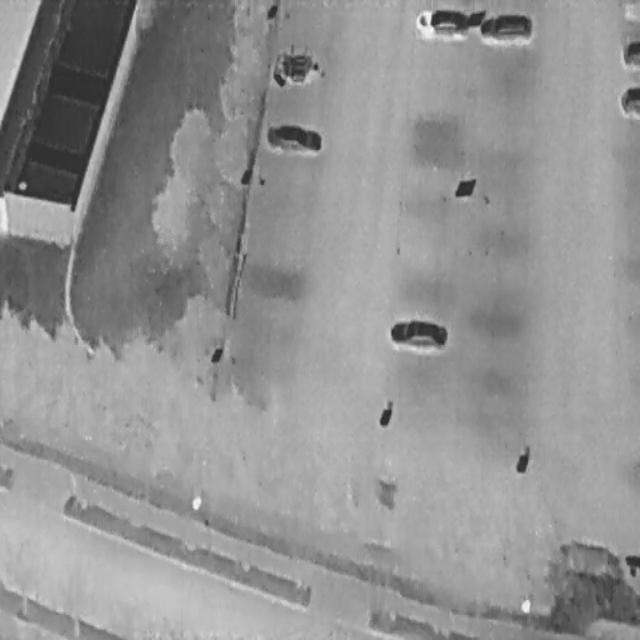Car: (549, 541, 638, 610), (390, 316, 447, 348), (273, 48, 322, 84), (414, 6, 467, 36), (266, 124, 321, 152), (480, 14, 532, 40), (621, 85, 639, 114), (623, 40, 639, 70)
